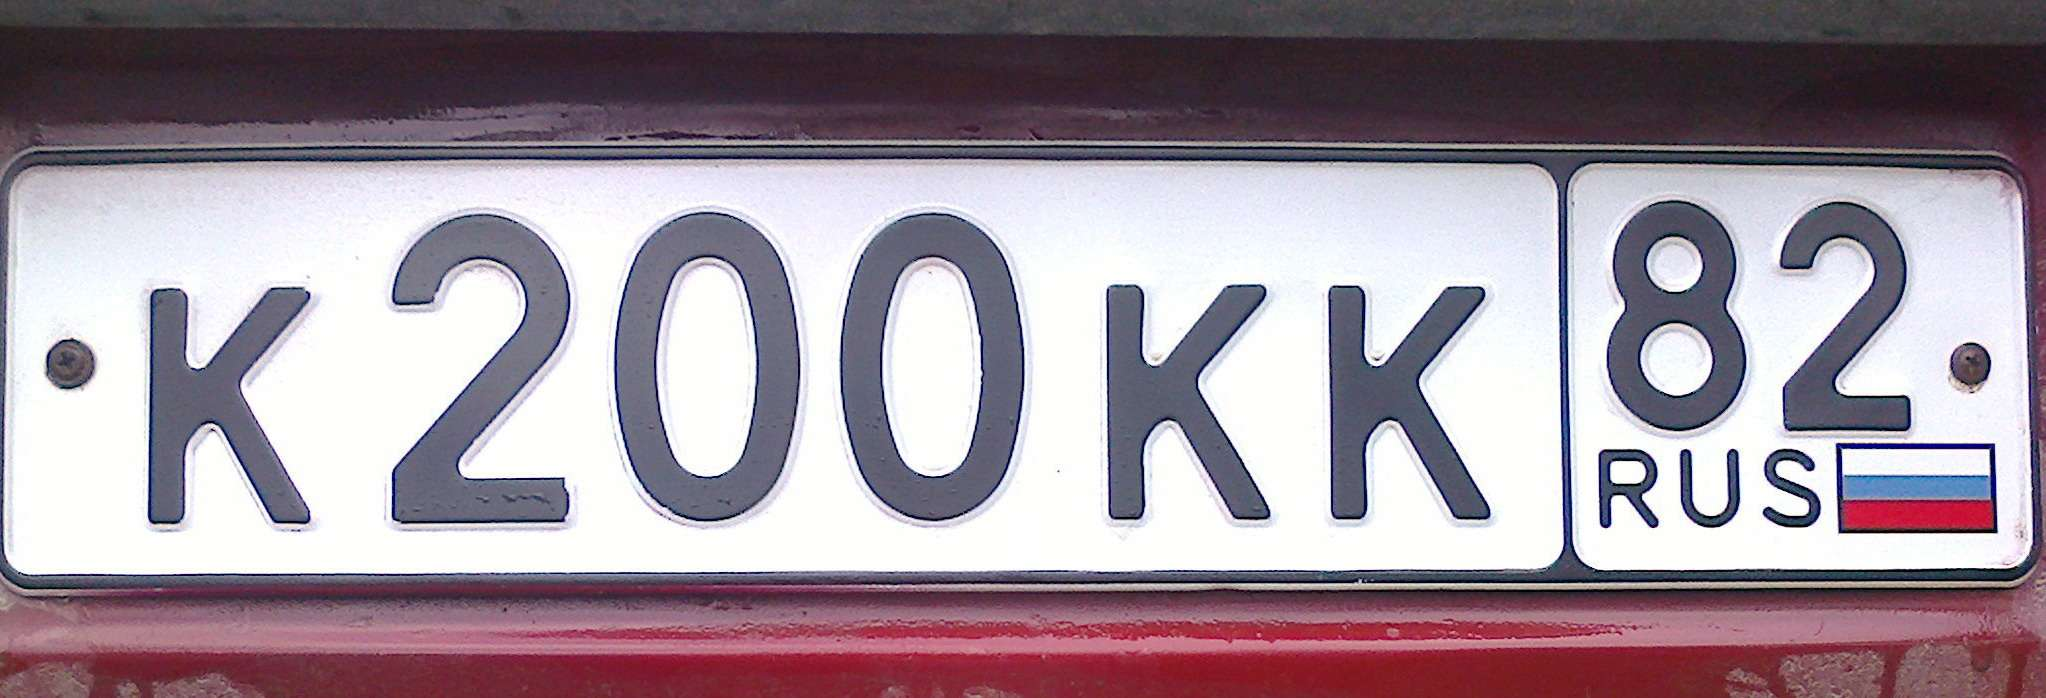number_plate: (19, 166, 2027, 563)
